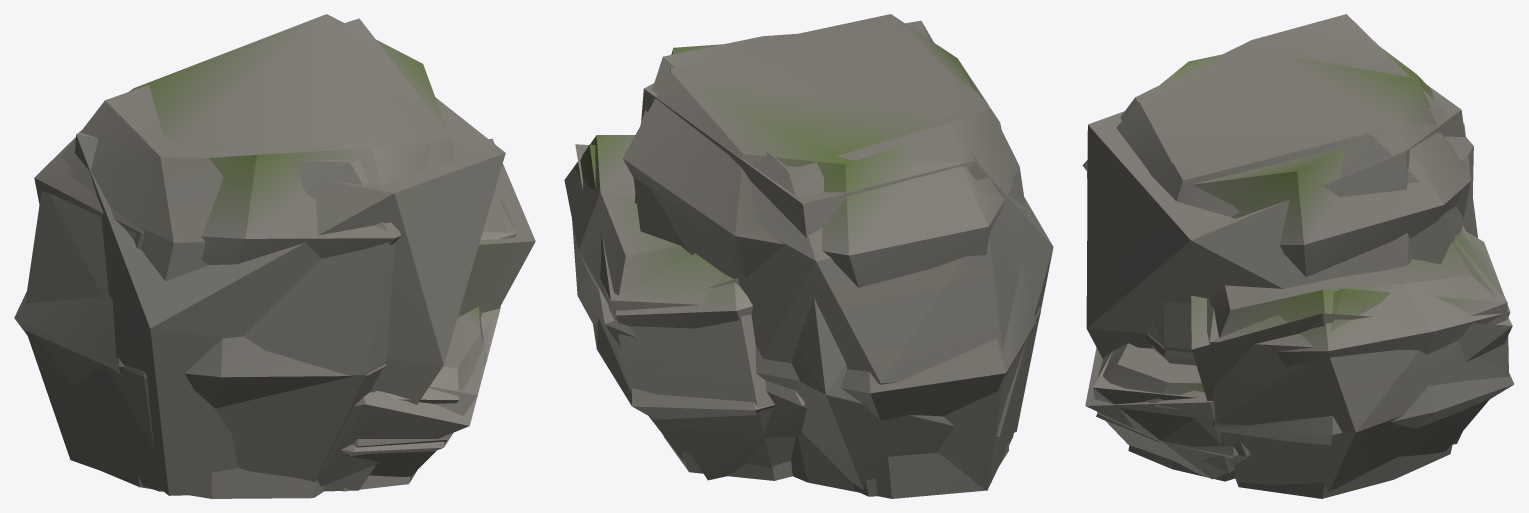
Rendered from BoulderA.source-pack-baseline.glb.
3 renders of one model, left to right at view 1: azimuth 30°, elevation 25°; view 2: azimuth 150°, elevation 25°; view 3: azimuth 270°, elevation 25°, orthographic. The views are drawn at different scales.
Parts seen in each view (by area): view 1: BoulderA_L2, BoulderA_L0, BoulderA_L1; view 2: BoulderA_L0, BoulderA_L1, BoulderA_L2; view 3: BoulderA_L0, BoulderA_L1, BoulderA_L2.
Boxes of the visible parts, bbox=[...] form: BoulderA_L2: bbox=[57, 97, 535, 495]; BoulderA_L0: bbox=[14, 14, 505, 498]; BoulderA_L1: bbox=[25, 18, 516, 491]; BoulderA_L0: bbox=[564, 14, 1035, 498]; BoulderA_L1: bbox=[572, 25, 1040, 496]; BoulderA_L2: bbox=[575, 20, 1053, 489]; BoulderA_L0: bbox=[1082, 47, 1514, 498]; BoulderA_L1: bbox=[1087, 14, 1508, 491]; BoulderA_L2: bbox=[1085, 85, 1512, 472].
Bounding box in the file's own units: 2.4 × 1.82 × 2.
